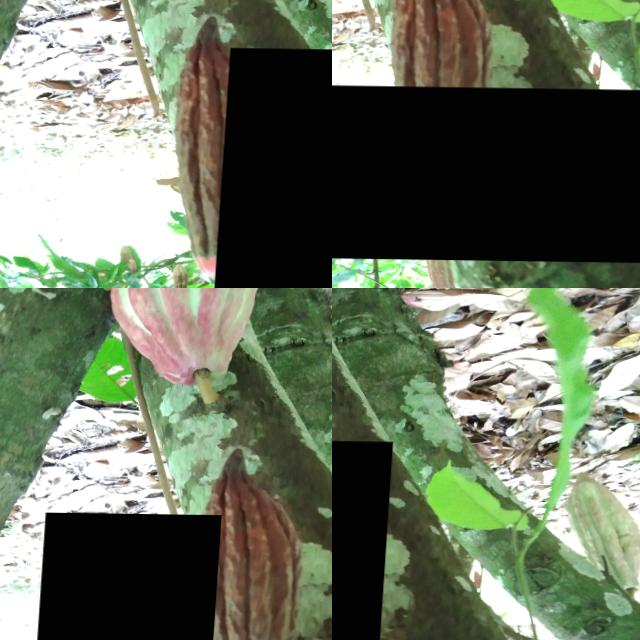Fitoftora: (212, 47, 332, 288), (33, 512, 225, 640), (332, 439, 395, 640)
Monilia: (332, 84, 640, 262)
Sana: (180, 343, 307, 497), (563, 469, 640, 594)
